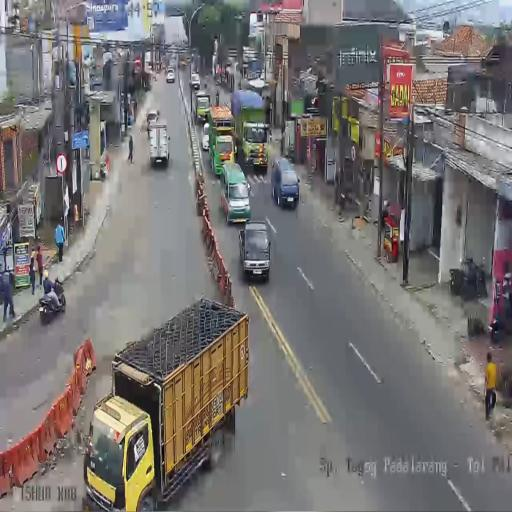car: (238, 222, 271, 282), (219, 163, 250, 223), (271, 157, 299, 209), (195, 92, 211, 122), (202, 122, 210, 152), (190, 72, 200, 90), (166, 66, 175, 82)
truck: (85, 300, 247, 511), (206, 103, 236, 174), (242, 120, 271, 172), (146, 110, 158, 133), (144, 51, 151, 72)
